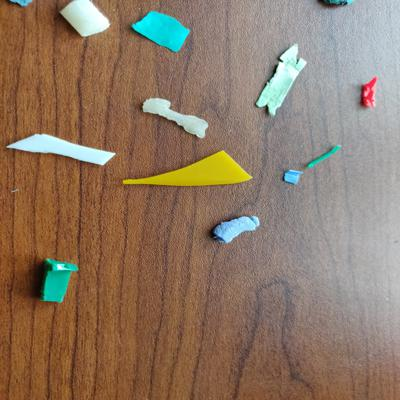plastic: (120, 147, 253, 190), (6, 127, 116, 172), (252, 39, 312, 119), (140, 93, 215, 140), (129, 8, 193, 55), (58, 1, 115, 40), (208, 211, 266, 248), (40, 255, 80, 307), (305, 140, 345, 169), (358, 75, 382, 111), (281, 167, 304, 186)
